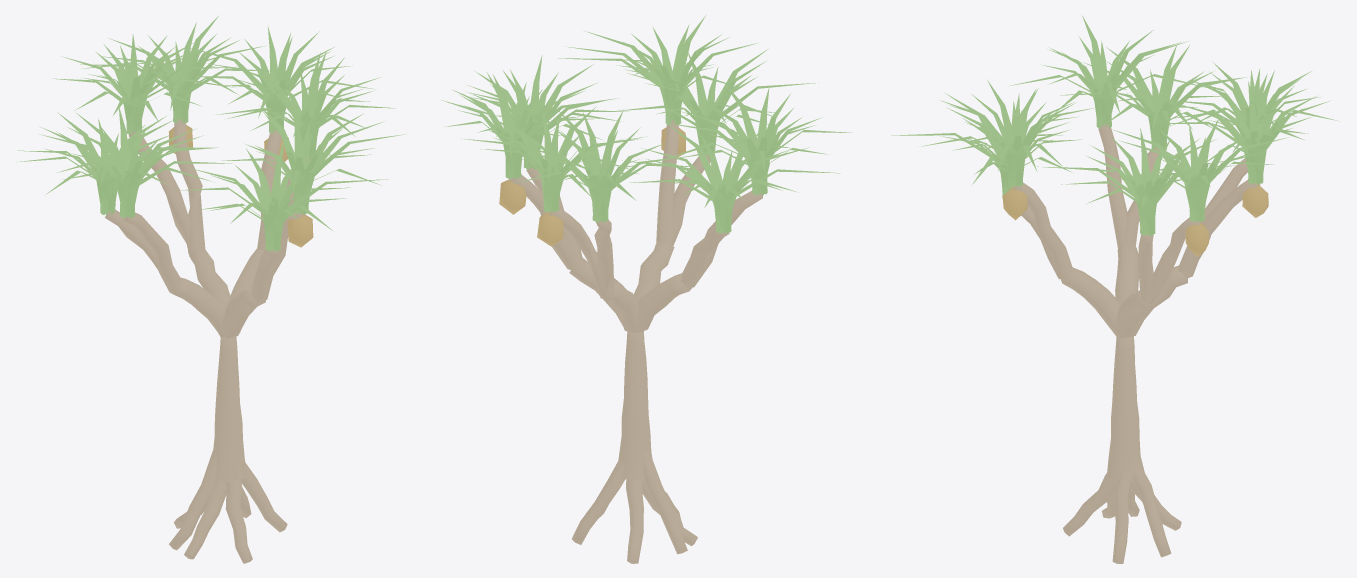
Rendered from Blender_Hala_1.glb.
3 renders of one model, left to right at view 1: azimuth 30°, elevation 25°; view 2: azimuth 150°, elevation 25°; view 3: azimuth 270°, elevation 25°, orthographic.
Parts seen in each view (by area): view 1: Blender_Hala_1; view 2: Blender_Hala_1; view 3: Blender_Hala_1.
Boxes of the visible parts, left/top/right/bottom form: Blender_Hala_1: left=16, top=16, right=405, bottom=563; Blender_Hala_1: left=441, top=15, right=851, bottom=563; Blender_Hala_1: left=891, top=15, right=1339, bottom=563.
Bounding box in the file's own units: 6.58 × 8.03 × 7.35.
